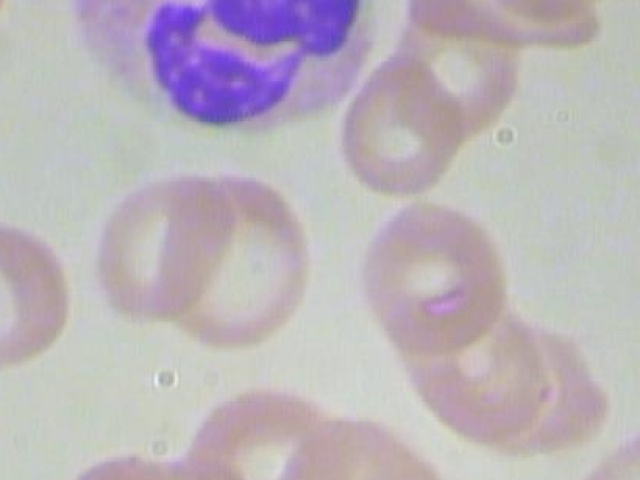RBC: (159, 165, 322, 364), (345, 191, 517, 362), (86, 168, 244, 328), (331, 54, 470, 193), (253, 411, 450, 480), (0, 202, 75, 376), (553, 412, 640, 480), (0, 0, 21, 39), (0, 357, 5, 480)
WBC: (48, 0, 399, 136)
